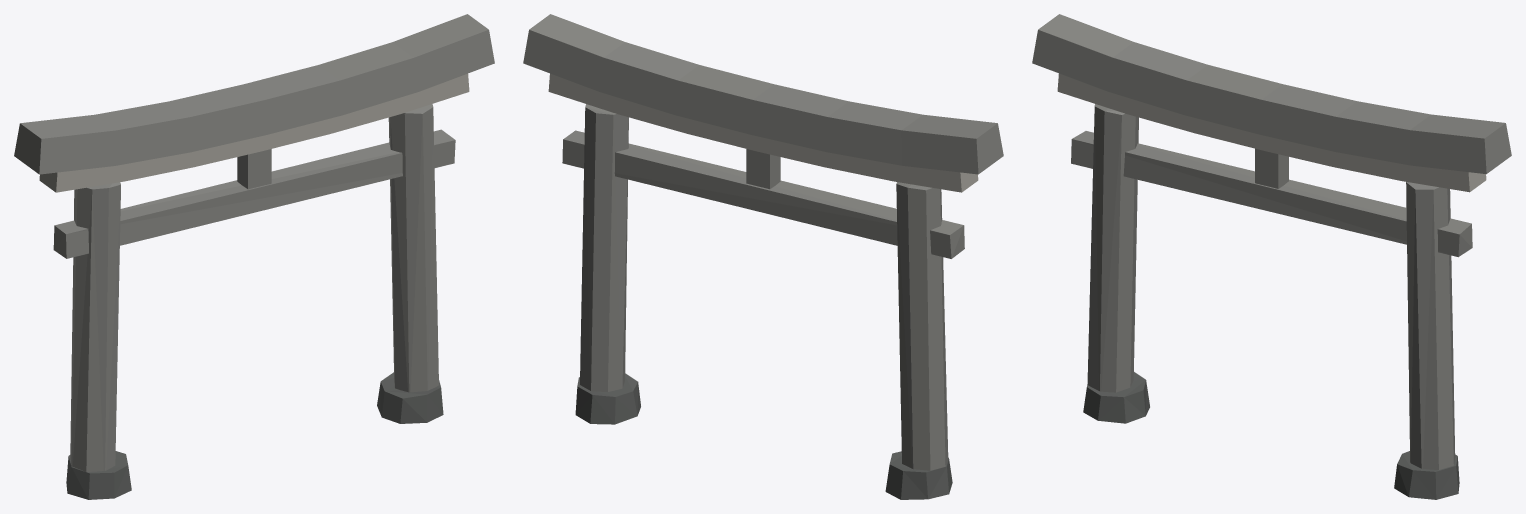
File: torii_stone.fbx
3 views of the same model, side by side, from view 1: azimuth 30°, elevation 25°; view 2: azimuth 150°, elevation 25°; view 3: azimuth 330°, elevation 25° (orthographic).
Visible parts, largest first — view 1: torii_stone; view 2: torii_stone; view 3: torii_stone.
Part boxes in pixels (x1,y1,x2,y2): torii_stone: (14,14,494,499); torii_stone: (523,14,1003,499); torii_stone: (1032,14,1511,499).
Size of the model in its own units: 5.4 by 4.23 by 0.738.
